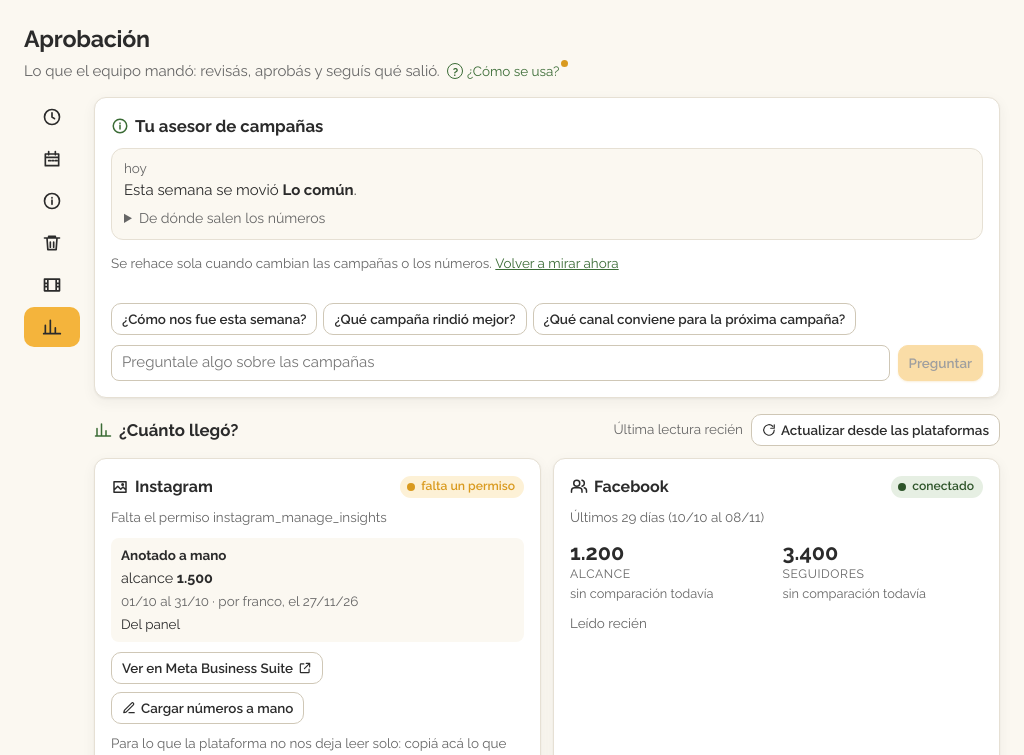
Test case: Métricas › actualizar muestra el resultado por canal
Click the button "Actualizar desde las plataformas". click: coordinates (875, 430)
box: [751, 414, 1000, 446]
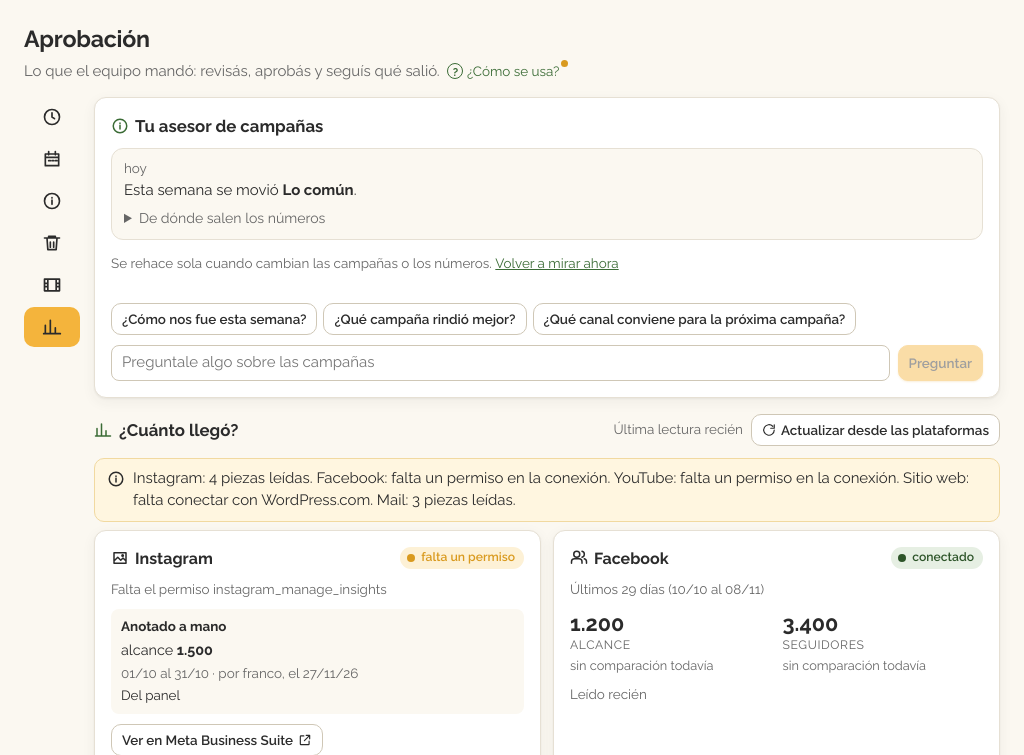
Now the text "Instagram: 4 piezas leídas" is shown, box [133, 469, 310, 487]
Now the text "Facebook: falta un permiso en la conexión" is shown, box [316, 469, 608, 487]
Now the text "YouTube: falta un permiso en la conexión" is shown, box [614, 469, 896, 487]
